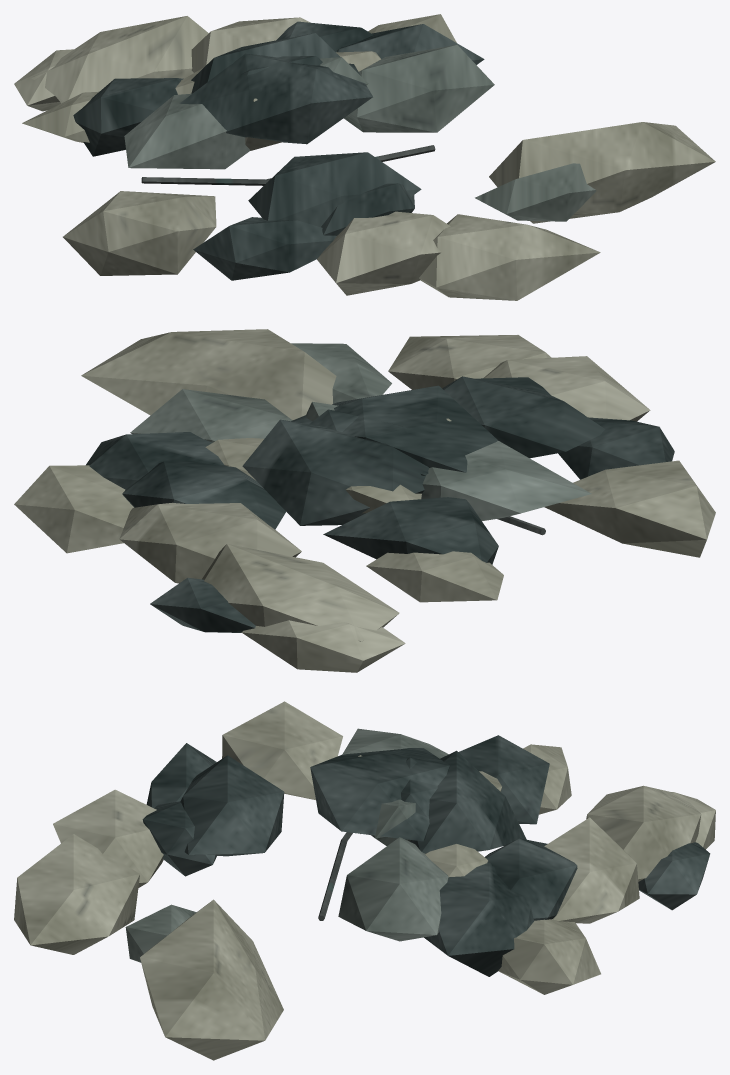
The model's file is 0108_scree_pile_08.glb.
3 renders of one model, top to bottom at view 1: azimuth 30°, elevation 25°; view 2: azimuth 150°, elevation 25°; view 3: azimuth 270°, elevation 25°, orthographic. The views are drawn at different scales.
Visible parts, largest first — view 1: stone_light, stone_dark, stone, iron; view 2: stone_light, stone_dark, stone; view 3: stone_light, stone_dark, stone, iron.
Boxes of the visible parts, left/top/right/bottom form: stone_light: left=14, top=14, right=715, bottom=300; stone_dark: left=73, top=21, right=484, bottom=280; stone: left=124, top=45, right=596, bottom=221; iron: left=141, top=145, right=435, bottom=185; stone_light: left=14, top=329, right=715, bottom=672; stone_dark: left=86, top=376, right=674, bottom=632; stone: left=130, top=343, right=591, bottom=520; stone_light: left=14, top=701, right=715, bottom=1060; stone_dark: left=142, top=735, right=710, bottom=976; stone: left=125, top=728, right=448, bottom=962; iron: left=318, top=832, right=352, bottom=920.
Bounding box in the file's own units: 3.17 × 0.6946 × 3.09.
4 materials, 4 textured.
